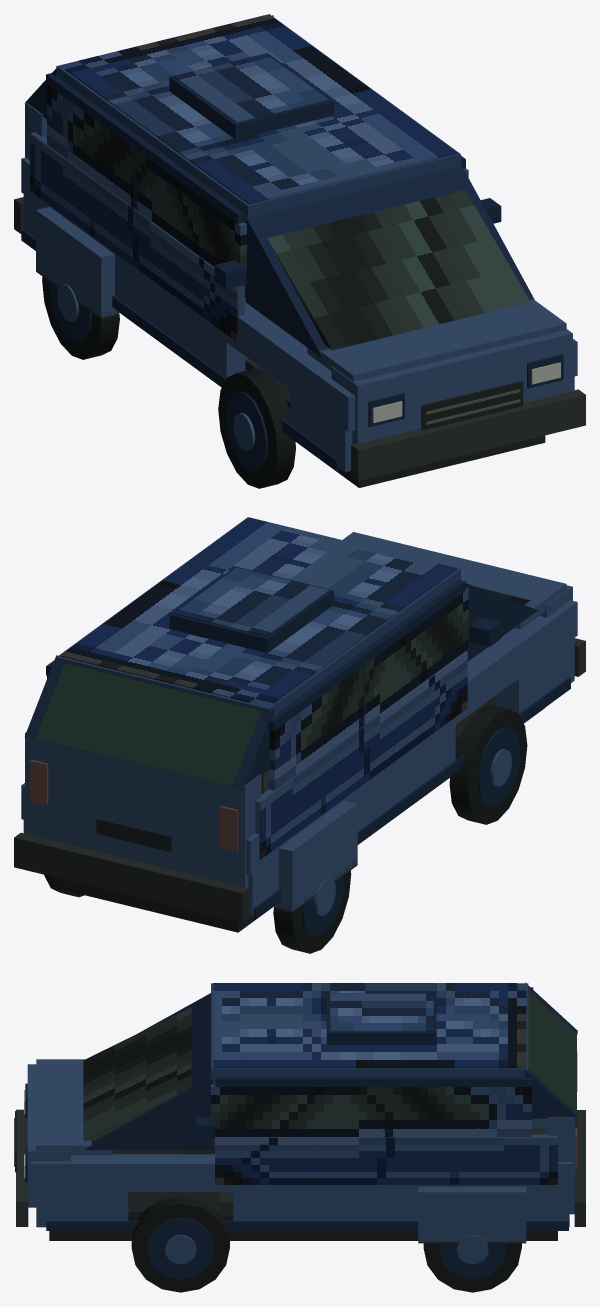
File: CMU3DRMCPropVehicleMonoSupronBlue.glb
3 views of the same model, one above another, from view 1: azimuth 30°, elevation 25°; view 2: azimuth 150°, elevation 25°; view 3: azimuth 270°, elevation 25° (orthographic). The views are drawn at different scales.
Visible parts, largest first — view 1: source roof panel, continuous sloped windshield, painted side door -1 0, side glazing -1 0, sloping windshield surround, nose lower panel, front bumper, hood top, upper wheel arch rail -1, roof base, roof pod original top, rear wheel cover (+17 smaller); view 2: source roof panel, rear tailgate, raked rear glazing, painted side door -1 0, side glazing -1 0, rear black bumper, upper wheel arch rail -1, roof pod original top, rear wheel cover, tire 1 -1, lower skirt -1 1, hood top (+18 smaller); view 3: source roof panel, painted side door 1 0, side glazing 1 0, continuous sloped windshield, lower skirt 1 1, sloping windshield surround, upper wheel arch rail 1, rear wheel cover, hood top, chassis dark underside, tire 1 1, roof pod original top (+20 smaller).
Part boxes in pixels (left/top/right/bottom): source roof panel: left=65, top=14, right=457, bottom=204; continuous sloped windshield: left=267, top=190, right=530, bottom=350; painted side door -1 0: left=30, top=133, right=237, bottom=341; side glazing -1 0: left=47, top=84, right=246, bottom=285; sloping windshield surround: left=245, top=164, right=534, bottom=358; nose lower panel: left=331, top=329, right=572, bottom=444; front bumper: left=351, top=389, right=585, bottom=480; hood top: left=307, top=299, right=566, bottom=381; upper wheel arch rail -1: left=21, top=157, right=355, bottom=431; roof base: left=56, top=14, right=460, bottom=218; roof pod original top: left=174, top=54, right=328, bottom=122; rear wheel cover: left=36, top=207, right=119, bottom=317; source roof panel: left=60, top=517, right=457, bottom=703; rear tailgate: left=25, top=732, right=261, bottom=887; raked rear glazing: left=35, top=663, right=261, bottom=785; painted side door -1 0: left=259, top=651, right=467, bottom=859; side glazing -1 0: left=268, top=588, right=468, bottom=790; rear black bumper: left=14, top=832, right=249, bottom=922; upper wheel arch rail -1: left=246, top=600, right=577, bottom=874; roof pod original top: left=174, top=567, right=328, bottom=636; rear wheel cover: left=274, top=800, right=357, bottom=911; tire 1 -1: left=449, top=704, right=527, bottom=824; lower skirt -1 1: left=343, top=718, right=455, bottom=831; hood top: left=343, top=532, right=566, bottom=629; source roof panel: left=213, top=983, right=526, bottom=1068; painted side door 1 0: left=215, top=1137, right=557, bottom=1184; side glazing 1 0: left=211, top=1084, right=531, bottom=1136; continuous sloped windshield: left=83, top=1007, right=191, bottom=1140; lower skirt 1 1: left=233, top=1185, right=419, bottom=1220; sloping windshield surround: left=85, top=993, right=212, bottom=1149; upper wheel arch rail 1: left=31, top=1154, right=573, bottom=1191; rear wheel cover: left=418, top=1187, right=526, bottom=1241; hood top: left=36, top=1059, right=112, bottom=1155; chassis dark underside: left=49, top=1150, right=557, bottom=1240; tire 1 1: left=131, top=1196, right=229, bottom=1292; roof pod original top: left=330, top=993, right=433, bottom=1031.
Size of the model in its own units: 0.9117 by 0.8778 by 1.98.
23 materials, 5 textured.
